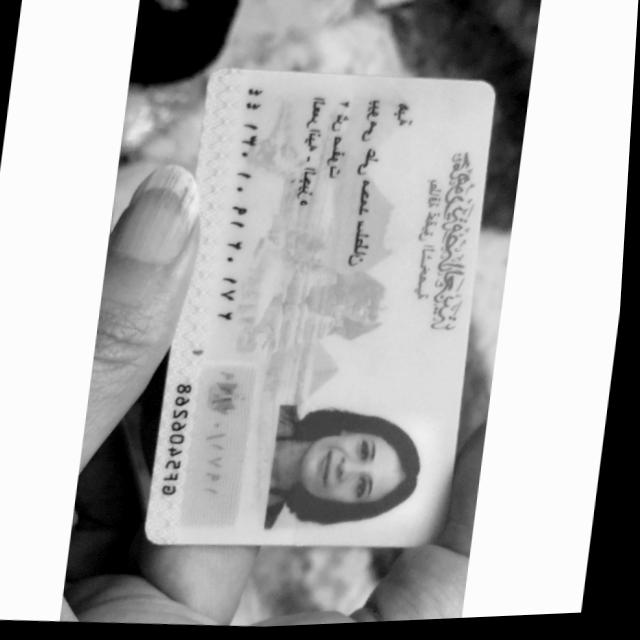id_card: (146, 67, 495, 546)
